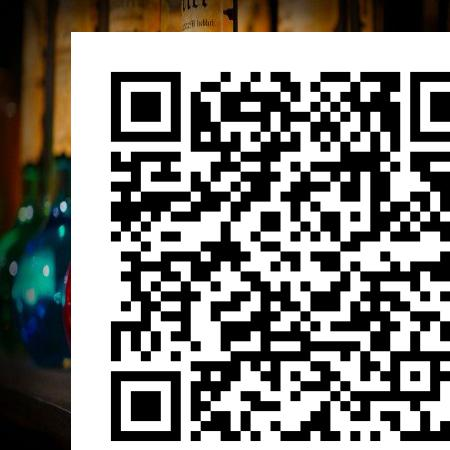qr_code: (71, 52, 449, 430)
